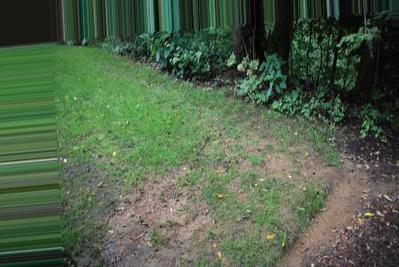patch: (189, 164, 297, 265), (253, 142, 339, 223), (135, 195, 207, 257)
